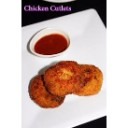cutlet: (45, 62, 81, 95), (28, 76, 63, 106), (77, 65, 102, 95)
